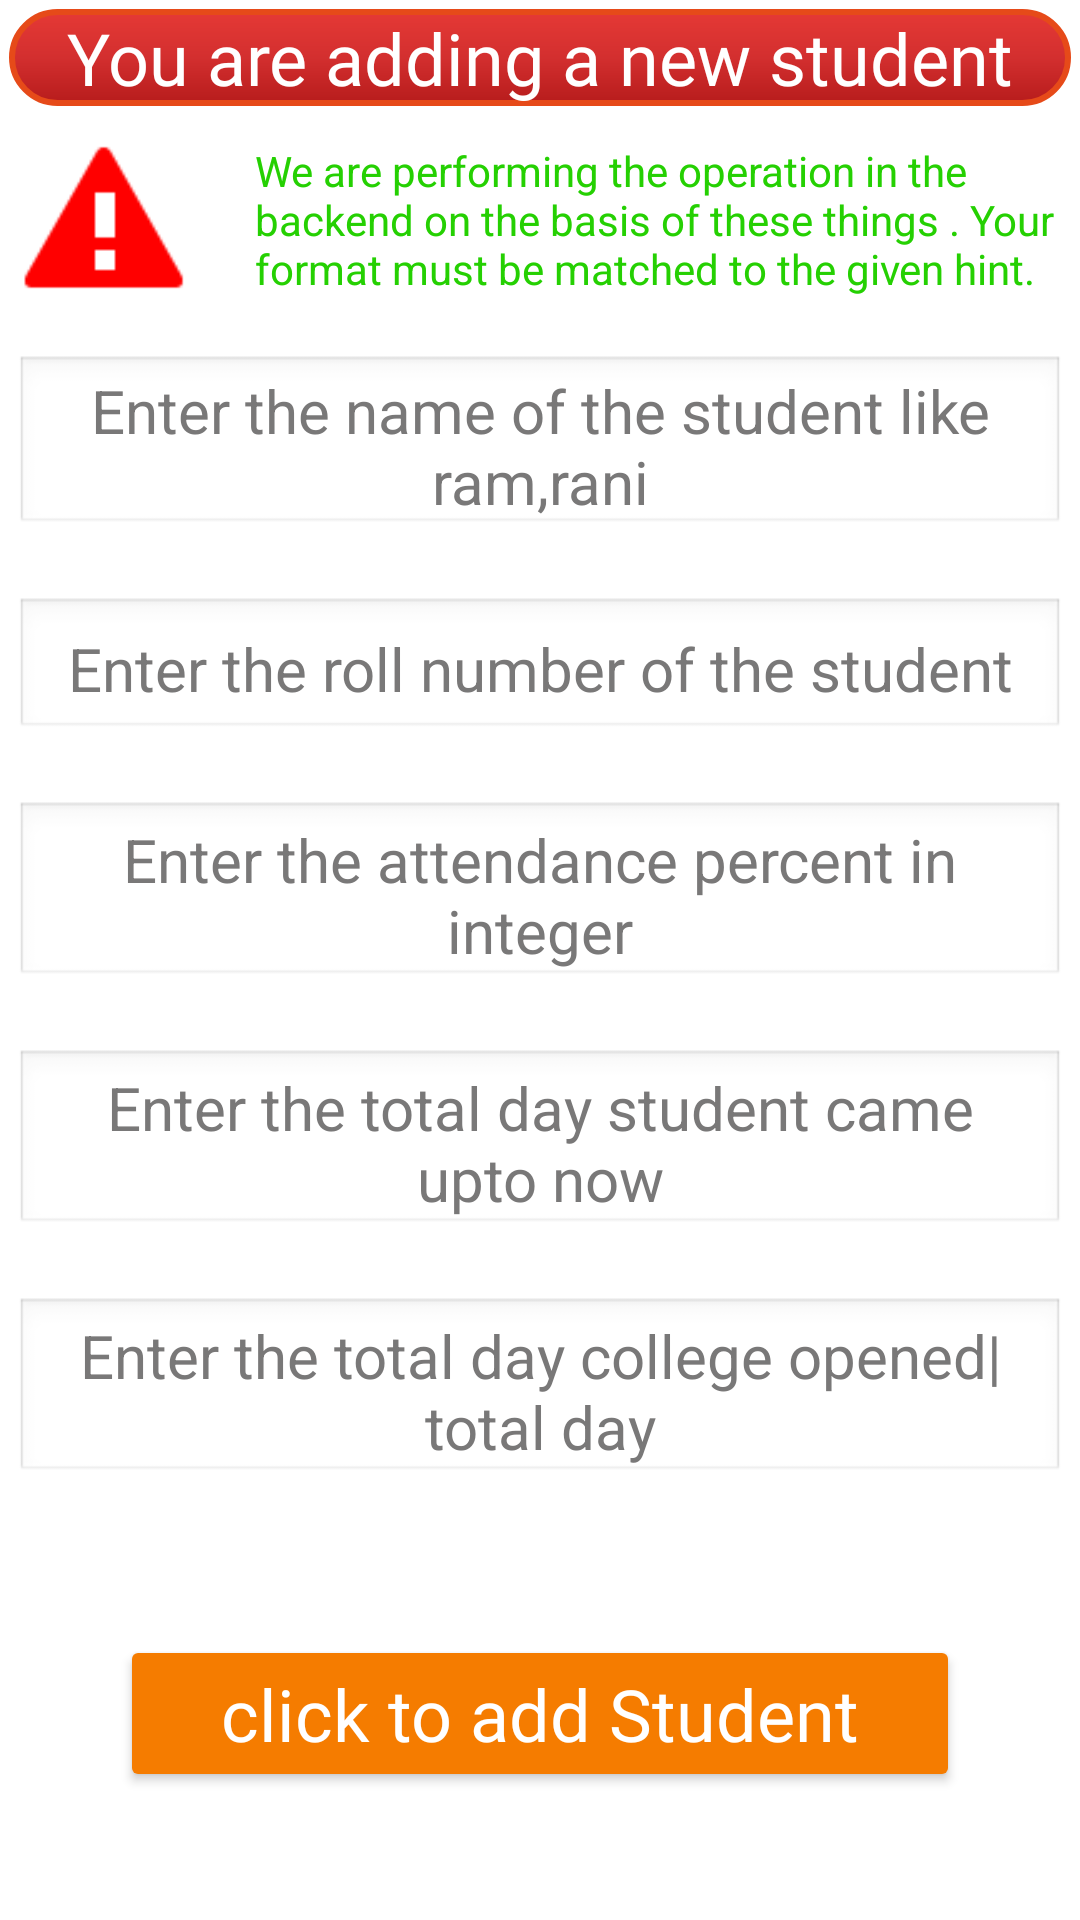

Named icons in this screenshot (1080px×1920px) and their bounding boxes, region(x1, y1, x2, y2):
warning: region(24, 146, 184, 289)
